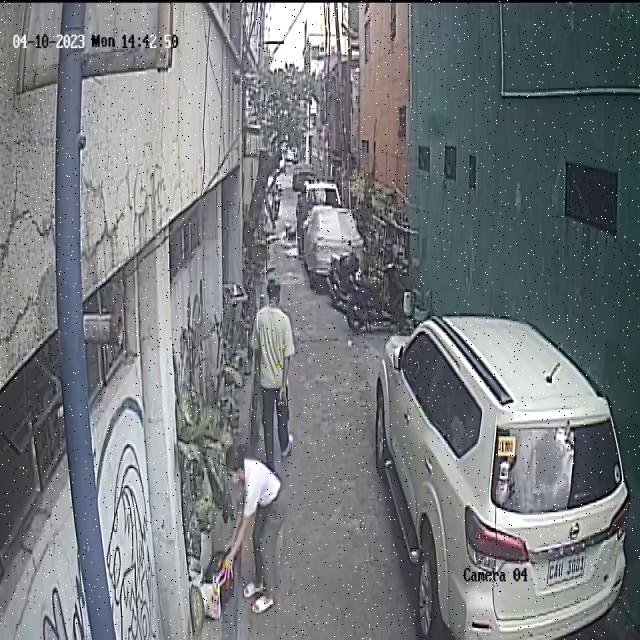garbage_dumping: (203, 538, 238, 623)
